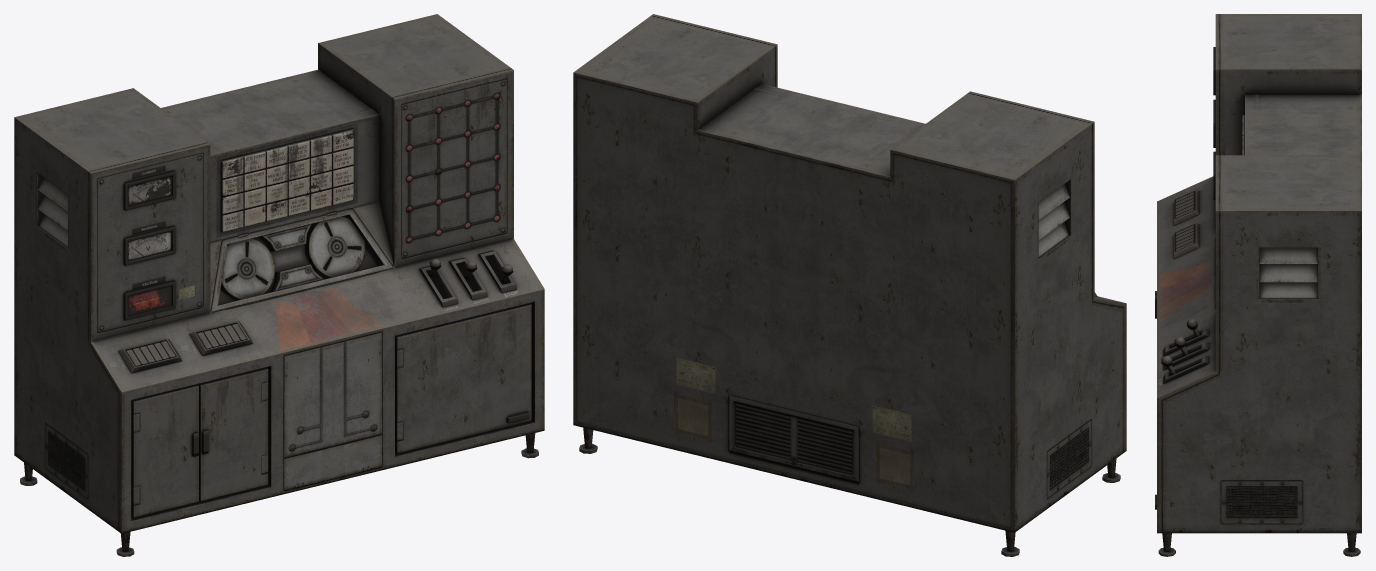
The model's file is machine.glb.
3 views of the same model, side by side, from view 1: azimuth 30°, elevation 25°; view 2: azimuth 150°, elevation 25°; view 3: azimuth 270°, elevation 25° (orthographic). The views are drawn at different scales.
Parts seen in each view (by area): view 1: Object002_Material #367_0; view 2: Object002_Material #367_0; view 3: Object002_Material #367_0.
Boxes of the visible parts, <box> form: Object002_Material #367_0: <box>14,14,544,556</box>; Object002_Material #367_0: <box>573,14,1126,556</box>; Object002_Material #367_0: <box>1155,14,1361,556</box>.
Bounding box in the file's own units: 4.05 × 3.32 × 1.8.
Materials: 1 (1 with a texture image).
